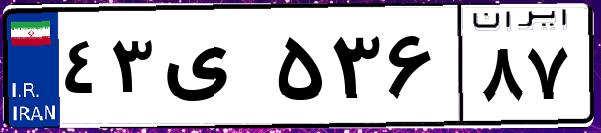3: (330, 28, 385, 110), (110, 28, 158, 98)
4: (57, 26, 110, 100)
5: (270, 28, 330, 110)
6: (385, 28, 445, 110)
7: (525, 38, 570, 115)
8: (475, 38, 525, 113)
ی: (158, 20, 270, 120)
